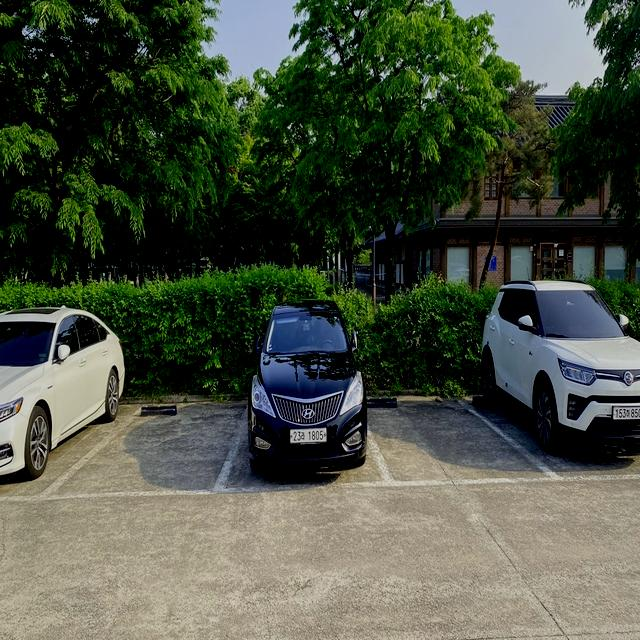empty: (26, 404, 249, 502), (365, 398, 569, 490)
occupied: (481, 278, 640, 450), (252, 302, 370, 472)
